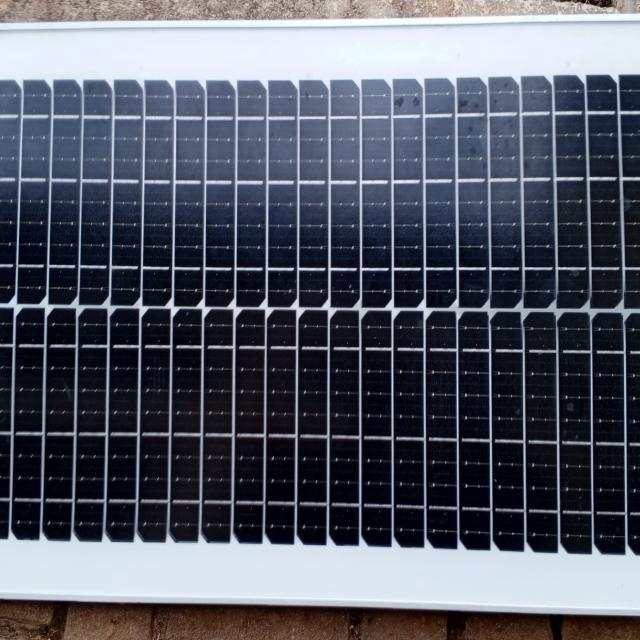Clean: (3, 46, 640, 579)
